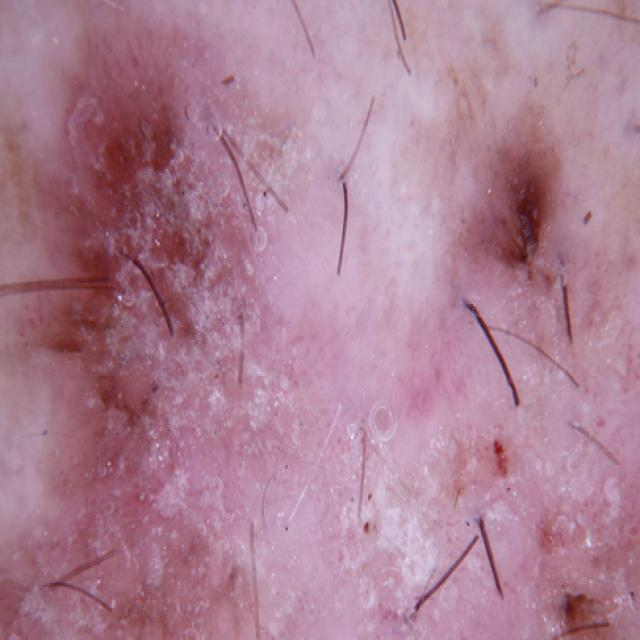Carcinoma: (44, 49, 313, 503), (412, 133, 640, 431), (410, 456, 640, 640), (0, 530, 338, 640)
